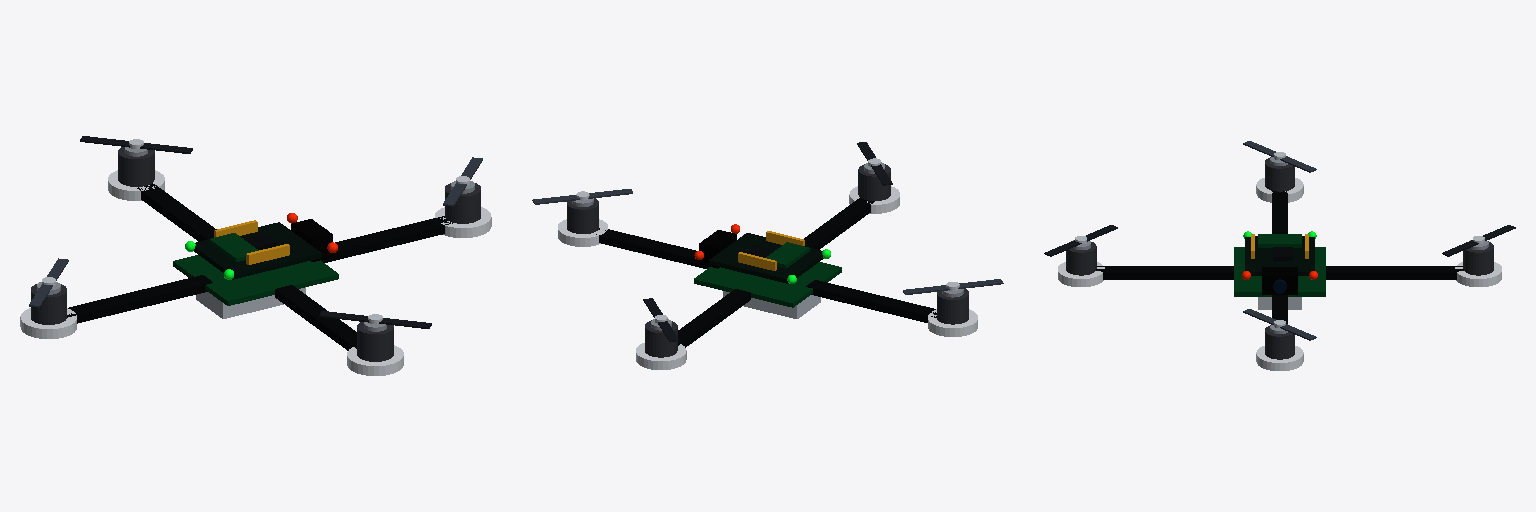
URDF robot description (racer_so3_quadrotor):
<?xml version="1.0"?>
<!--
  Crazyflie-inspired visual variant of the RACER SO3 quadrotor.

  This remains the source-faithful RACER mathematical plant. The single-link
  mass, inertia, plus-layout rotor centres and collision primitives are
  identical to racer_so3_quadrotor.urdf. Only visual primitives differ.

  Frame convention: ROS FLU body frame (+X forward, +Y left, +Z up).
  Rotor layout: "+" configuration at (+X, -X, +Y, -Y) * 0.26 m.
-->
<robot name="racer_so3_quadrotor">
  <material name="cf_carbon">
    <color rgba="0.035 0.045 0.055 1.0"/>
  </material>
  <material name="cf_pcb_green">
    <color rgba="0.025 0.24 0.11 1.0"/>
  </material>
  <material name="cf_pcb_dark">
    <color rgba="0.035 0.085 0.065 1.0"/>
  </material>
  <material name="cf_chip">
    <color rgba="0.055 0.060 0.070 1.0"/>
  </material>
  <material name="cf_battery">
    <color rgba="0.70 0.73 0.76 1.0"/>
  </material>
  <material name="cf_battery_label">
    <color rgba="0.08 0.30 0.74 1.0"/>
  </material>
  <material name="cf_motor_mount">
    <color rgba="0.82 0.84 0.86 1.0"/>
  </material>
  <material name="cf_motor">
    <color rgba="0.20 0.21 0.23 1.0"/>
  </material>
  <material name="cf_motor_cap">
    <color rgba="0.55 0.57 0.60 1.0"/>
  </material>
  <material name="cf_propeller_cw">
    <color rgba="0.10 0.12 0.14 0.82"/>
  </material>
  <material name="cf_propeller_ccw">
    <color rgba="0.22 0.25 0.29 0.82"/>
  </material>
  <material name="cf_hub">
    <color rgba="0.75 0.77 0.80 1.0"/>
  </material>
  <material name="cf_camera">
    <color rgba="0.025 0.027 0.030 1.0"/>
  </material>
  <material name="cf_lens">
    <color rgba="0.035 0.10 0.17 1.0"/>
  </material>
  <material name="cf_front_led">
    <color rgba="1.0 0.18 0.03 1.0"/>
  </material>
  <material name="cf_rear_led">
    <color rgba="0.05 1.0 0.22 1.0"/>
  </material>
  <material name="cf_pin_gold">
    <color rgba="0.82 0.58 0.10 1.0"/>
  </material>

  <link name="base_link">
    <inertial>
      <origin xyz="0 0 0" rpy="0 0 0"/>
      <mass value="0.98"/>
      <inertia
        ixx="0.00264" ixy="0.0" ixz="0.0"
        iyy="0.00264" iyz="0.0"
        izz="0.00496"/>
    </inertial>

    <!-- Layered PCB, battery and electronics reproduce the Crazyflie silhouette. -->
    <visual name="pcb_lower">
      <origin xyz="0 0 0.002" rpy="0 0 0"/>
      <geometry><box size="0.140 0.120 0.006"/></geometry>
      <material name="cf_pcb_green"/>
    </visual>
    <visual name="pcb_upper">
      <origin xyz="0 0 0.025" rpy="0 0 0"/>
      <geometry><box size="0.112 0.092 0.006"/></geometry>
      <material name="cf_pcb_dark"/>
    </visual>
    <visual name="battery">
      <origin xyz="-0.006 0 -0.018" rpy="0 0 0"/>
      <geometry><box size="0.104 0.058 0.028"/></geometry>
      <material name="cf_battery"/>
    </visual>
    <visual name="battery_label">
      <origin xyz="-0.006 0 -0.033" rpy="0 0 0"/>
      <geometry><box size="0.075 0.040 0.002"/></geometry>
      <material name="cf_battery_label"/>
    </visual>
    <visual name="flight_controller_chip">
      <origin xyz="0.006 0.004 0.031" rpy="0 0 0"/>
      <geometry><box size="0.030 0.026 0.006"/></geometry>
      <material name="cf_chip"/>
    </visual>
    <visual name="radio_deck">
      <origin xyz="-0.026 0 0.035" rpy="0 0 0"/>
      <geometry><box size="0.032 0.058 0.005"/></geometry>
      <material name="cf_pcb_green"/>
    </visual>
    <visual name="pin_rack_left">
      <origin xyz="-0.005 0.035 0.036" rpy="0 0 0"/>
      <geometry><box size="0.052 0.005 0.012"/></geometry>
      <material name="cf_pin_gold"/>
    </visual>
    <visual name="pin_rack_right">
      <origin xyz="-0.005 -0.035 0.036" rpy="0 0 0"/>
      <geometry><box size="0.052 0.005 0.012"/></geometry>
      <material name="cf_pin_gold"/>
    </visual>

    <!-- Visual camera housing; the source optical frame remains at the origin. -->
    <visual name="camera_housing">
      <origin xyz="0.070 0 0.021" rpy="0 0 0"/>
      <geometry><box size="0.026 0.046 0.028"/></geometry>
      <material name="cf_camera"/>
    </visual>
    <visual name="camera_lens">
      <origin xyz="0.085 0 0.021" rpy="0 1.57079632679 0"/>
      <geometry><cylinder radius="0.009" length="0.008"/></geometry>
      <material name="cf_lens"/>
    </visual>

    <!-- Four individual tapered-looking arms, represented by portable boxes. -->
    <visual name="arm_front">
      <origin xyz="0.1625 0 0.001" rpy="0 0 0"/>
      <geometry><box size="0.205 0.022 0.010"/></geometry>
      <material name="cf_carbon"/>
    </visual>
    <visual name="arm_rear">
      <origin xyz="-0.1625 0 0.001" rpy="0 0 0"/>
      <geometry><box size="0.205 0.022 0.010"/></geometry>
      <material name="cf_carbon"/>
    </visual>
    <visual name="arm_left">
      <origin xyz="0 0.1625 0.001" rpy="0 0 0"/>
      <geometry><box size="0.022 0.205 0.010"/></geometry>
      <material name="cf_carbon"/>
    </visual>
    <visual name="arm_right">
      <origin xyz="0 -0.1625 0.001" rpy="0 0 0"/>
      <geometry><box size="0.022 0.205 0.010"/></geometry>
      <material name="cf_carbon"/>
    </visual>

    <!-- Crazyflie-like motor baskets. Rotor centres remain source-faithful. -->
    <visual name="motor_mount_0">
      <origin xyz="0.26 0 0.000" rpy="0 0 0"/>
      <geometry><cylinder radius="0.031" length="0.012"/></geometry>
      <material name="cf_motor_mount"/>
    </visual>
    <visual name="motor_mount_1">
      <origin xyz="-0.26 0 0.000" rpy="0 0 0"/>
      <geometry><cylinder radius="0.031" length="0.012"/></geometry>
      <material name="cf_motor_mount"/>
    </visual>
    <visual name="motor_mount_2">
      <origin xyz="0 0.26 0.000" rpy="0 0 0"/>
      <geometry><cylinder radius="0.031" length="0.012"/></geometry>
      <material name="cf_motor_mount"/>
    </visual>
    <visual name="motor_mount_3">
      <origin xyz="0 -0.26 0.000" rpy="0 0 0"/>
      <geometry><cylinder radius="0.031" length="0.012"/></geometry>
      <material name="cf_motor_mount"/>
    </visual>

    <visual name="motor_0">
      <origin xyz="0.26 0 0.021" rpy="0 0 0"/>
      <geometry><cylinder radius="0.020" length="0.036"/></geometry>
      <material name="cf_motor"/>
    </visual>
    <visual name="motor_1">
      <origin xyz="-0.26 0 0.021" rpy="0 0 0"/>
      <geometry><cylinder radius="0.020" length="0.036"/></geometry>
      <material name="cf_motor"/>
    </visual>
    <visual name="motor_2">
      <origin xyz="0 0.26 0.021" rpy="0 0 0"/>
      <geometry><cylinder radius="0.020" length="0.036"/></geometry>
      <material name="cf_motor"/>
    </visual>
    <visual name="motor_3">
      <origin xyz="0 -0.26 0.021" rpy="0 0 0"/>
      <geometry><cylinder radius="0.020" length="0.036"/></geometry>
      <material name="cf_motor"/>
    </visual>

    <visual name="motor_cap_0">
      <origin xyz="0.26 0 0.041" rpy="0 0 0"/>
      <geometry><cylinder radius="0.013" length="0.006"/></geometry>
      <material name="cf_motor_cap"/>
    </visual>
    <visual name="motor_cap_1">
      <origin xyz="-0.26 0 0.041" rpy="0 0 0"/>
      <geometry><cylinder radius="0.013" length="0.006"/></geometry>
      <material name="cf_motor_cap"/>
    </visual>
    <visual name="motor_cap_2">
      <origin xyz="0 0.26 0.041" rpy="0 0 0"/>
      <geometry><cylinder radius="0.013" length="0.006"/></geometry>
      <material name="cf_motor_cap"/>
    </visual>
    <visual name="motor_cap_3">
      <origin xyz="0 -0.26 0.041" rpy="0 0 0"/>
      <geometry><cylinder radius="0.013" length="0.006"/></geometry>
      <material name="cf_motor_cap"/>
    </visual>

    <!-- Thin two-blade propellers replace the old solid discs. -->
    <visual name="propeller_blade_0">
      <origin xyz="0.26 0 0.047" rpy="0 0 0.78539816339"/>
      <geometry><box size="0.124 0.012 0.002"/></geometry>
      <material name="cf_propeller_ccw"/>
    </visual>
    <visual name="propeller_blade_1">
      <origin xyz="-0.26 0 0.047" rpy="0 0 0.78539816339"/>
      <geometry><box size="0.124 0.012 0.002"/></geometry>
      <material name="cf_propeller_ccw"/>
    </visual>
    <visual name="propeller_blade_2">
      <origin xyz="0 0.26 0.047" rpy="0 0 -0.78539816339"/>
      <geometry><box size="0.124 0.012 0.002"/></geometry>
      <material name="cf_propeller_cw"/>
    </visual>
    <visual name="propeller_blade_3">
      <origin xyz="0 -0.26 0.047" rpy="0 0 -0.78539816339"/>
      <geometry><box size="0.124 0.012 0.002"/></geometry>
      <material name="cf_propeller_cw"/>
    </visual>

    <visual name="propeller_hub_0">
      <origin xyz="0.26 0 0.048" rpy="0 0 0"/>
      <geometry><cylinder radius="0.008" length="0.005"/></geometry>
      <material name="cf_hub"/>
    </visual>
    <visual name="propeller_hub_1">
      <origin xyz="-0.26 0 0.048" rpy="0 0 0"/>
      <geometry><cylinder radius="0.008" length="0.005"/></geometry>
      <material name="cf_hub"/>
    </visual>
    <visual name="propeller_hub_2">
      <origin xyz="0 0.26 0.048" rpy="0 0 0"/>
      <geometry><cylinder radius="0.008" length="0.005"/></geometry>
      <material name="cf_hub"/>
    </visual>
    <visual name="propeller_hub_3">
      <origin xyz="0 -0.26 0.048" rpy="0 0 0"/>
      <geometry><cylinder radius="0.008" length="0.005"/></geometry>
      <material name="cf_hub"/>
    </visual>

    <!-- LEDs make the +X nose and -X tail unambiguous. -->
    <visual name="front_led_left">
      <origin xyz="0.071 0.044 0.030" rpy="0 0 0"/>
      <geometry><sphere radius="0.006"/></geometry>
      <material name="cf_front_led"/>
    </visual>
    <visual name="front_led_right">
      <origin xyz="0.071 -0.044 0.030" rpy="0 0 0"/>
      <geometry><sphere radius="0.006"/></geometry>
      <material name="cf_front_led"/>
    </visual>
    <visual name="rear_led_left">
      <origin xyz="-0.058 0.042 0.027" rpy="0 0 0"/>
      <geometry><sphere radius="0.006"/></geometry>
      <material name="cf_rear_led"/>
    </visual>
    <visual name="rear_led_right">
      <origin xyz="-0.058 -0.042 0.027" rpy="0 0 0"/>
      <geometry><sphere radius="0.006"/></geometry>
      <material name="cf_rear_led"/>
    </visual>

    <!-- Collision primitive dimensions and poses match the original variant. -->
    <collision name="fuselage_collision">
      <origin xyz="0 0 0" rpy="0 0 0"/>
      <geometry><box size="0.16 0.14 0.07"/></geometry>
    </collision>
    <collision name="arm_x_collision">
      <origin xyz="0 0 0" rpy="0 0 0"/>
      <geometry><box size="0.54 0.03 0.025"/></geometry>
    </collision>
    <collision name="arm_y_collision">
      <origin xyz="0 0 0" rpy="0 0 0"/>
      <geometry><box size="0.03 0.54 0.025"/></geometry>
    </collision>
    <collision name="motor_0_collision">
      <origin xyz="0.26 0 0.018" rpy="0 0 0"/>
      <geometry><cylinder radius="0.024" length="0.040"/></geometry>
    </collision>
    <collision name="motor_1_collision">
      <origin xyz="-0.26 0 0.018" rpy="0 0 0"/>
      <geometry><cylinder radius="0.024" length="0.040"/></geometry>
    </collision>
    <collision name="motor_2_collision">
      <origin xyz="0 0.26 0.018" rpy="0 0 0"/>
      <geometry><cylinder radius="0.024" length="0.040"/></geometry>
    </collision>
    <collision name="motor_3_collision">
      <origin xyz="0 -0.26 0.018" rpy="0 0 0"/>
      <geometry><cylinder radius="0.024" length="0.040"/></geometry>
    </collision>
  </link>
</robot>

--- Render facts (derived) ---
3 views of the same robot in one strip: view 1: azimuth 30°, elevation 25°; view 2: azimuth 150°, elevation 25°; view 3: azimuth 270°, elevation 25° (orthographic).
Robot: racer_so3_quadrotor — 1 links, 0 joints (none); root link base_link; default pose: every joint at zero.
Links seen in each view (by area): view 1: base_link; view 2: base_link; view 3: base_link.
Link boxes in pixels (bbox=[...]): base_link: bbox=[20, 136, 491, 375]; base_link: bbox=[532, 142, 1003, 369]; base_link: bbox=[1044, 141, 1515, 370].
Bounding box of the posed robot: 0.6162 × 0.6162 × 0.0845 m (x, y, z).
Geometry: primitives only (box / cylinder / sphere), no mesh files.
